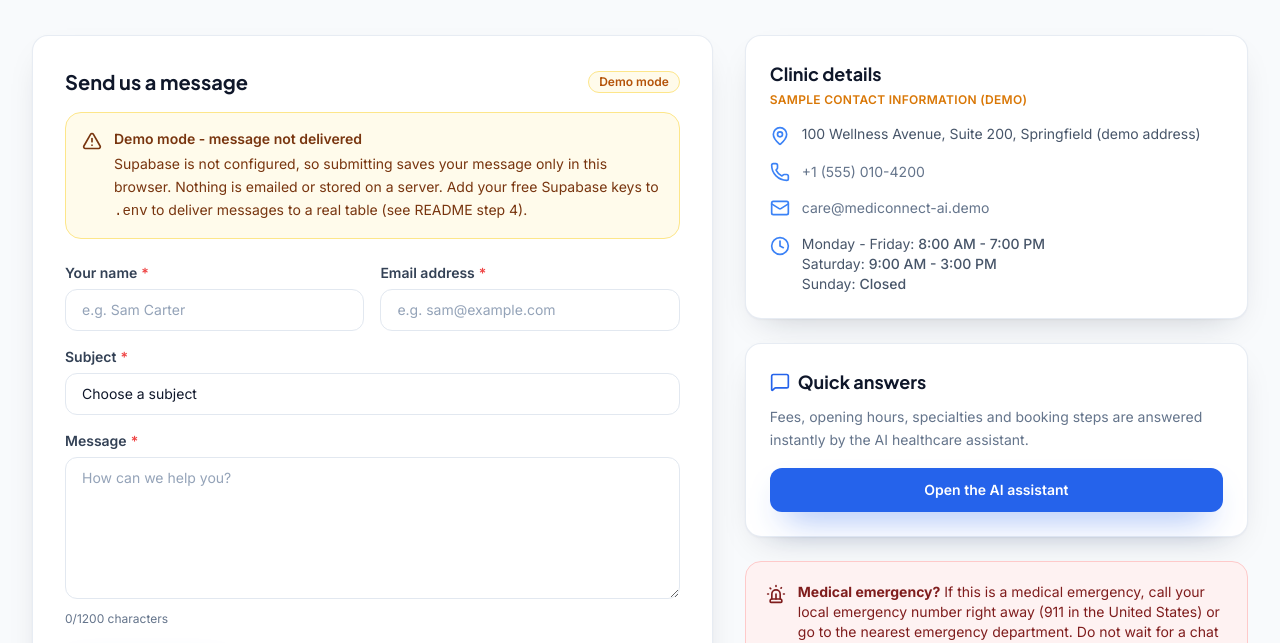
Test case: ContactPage form validation › accepts a valid message and shows a confirmation
The width and height of the screenshot is (1280, 643).
(page scrolled)
Type "Sam Carter" into the field labelled "Your name*" at coordinates (215, 310), box x1=65 y1=289 x2=364 y2=331
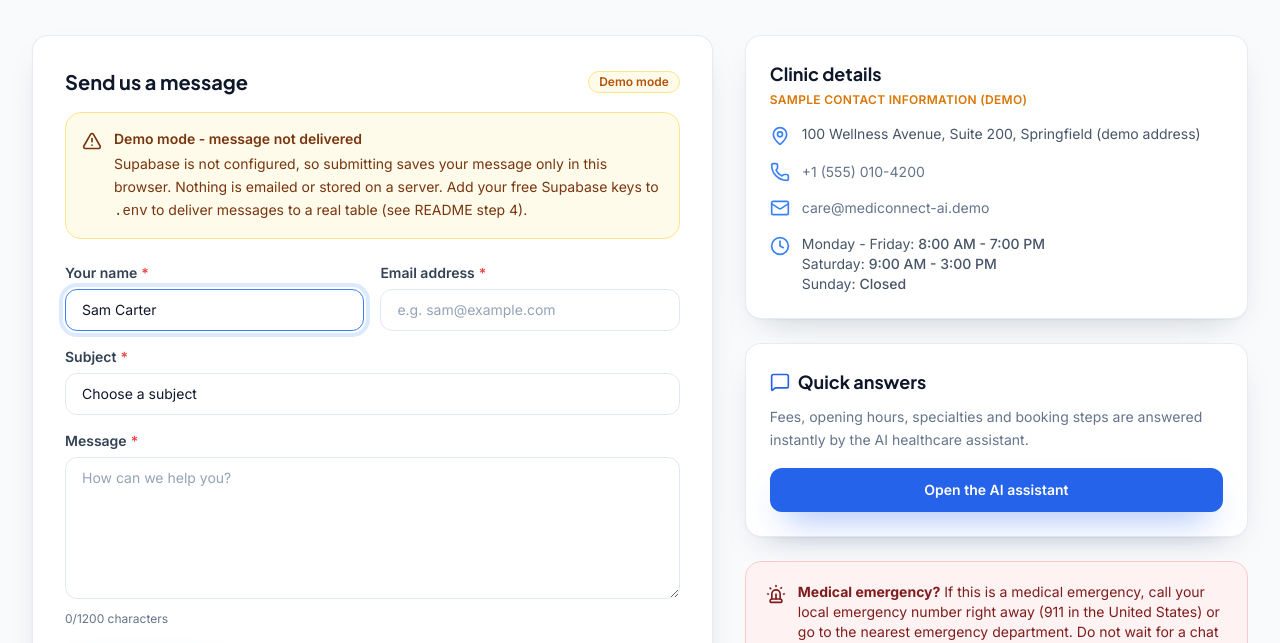
Type "sam@example.com" into the field labelled "Email address*" at coordinates (530, 310), box x1=380 y1=289 x2=680 y2=331
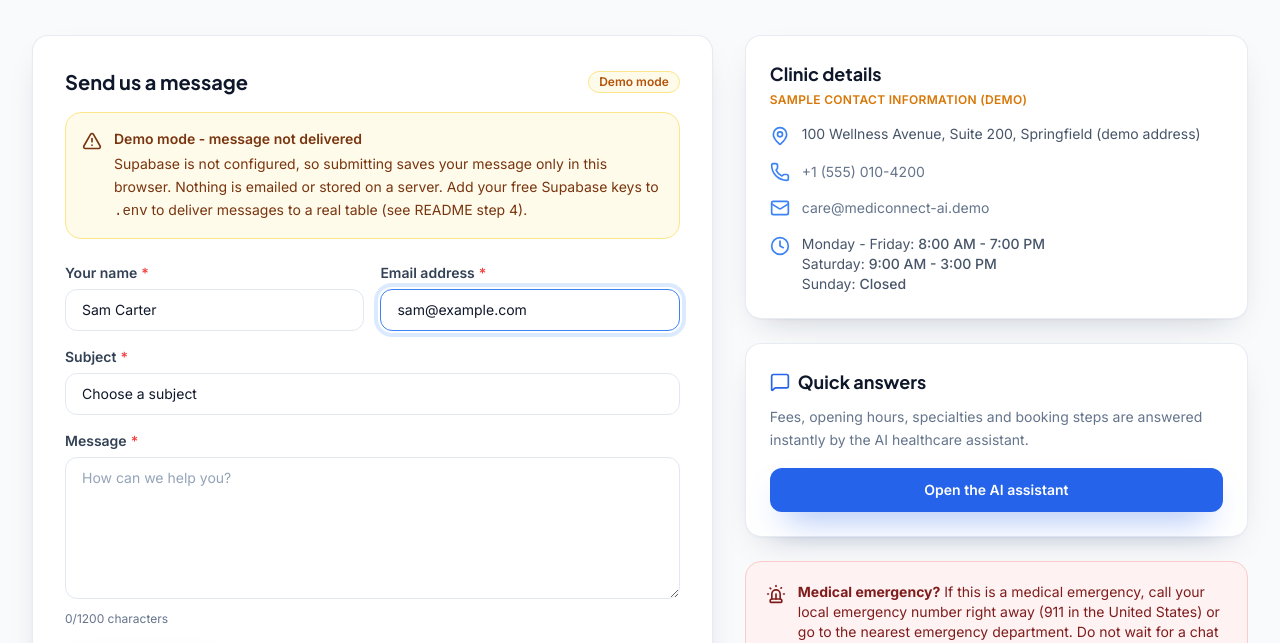
Select "General enquiry" in the dropdown labelled "Subject*" at coordinates (372, 394), box x1=65 y1=373 x2=680 y2=415
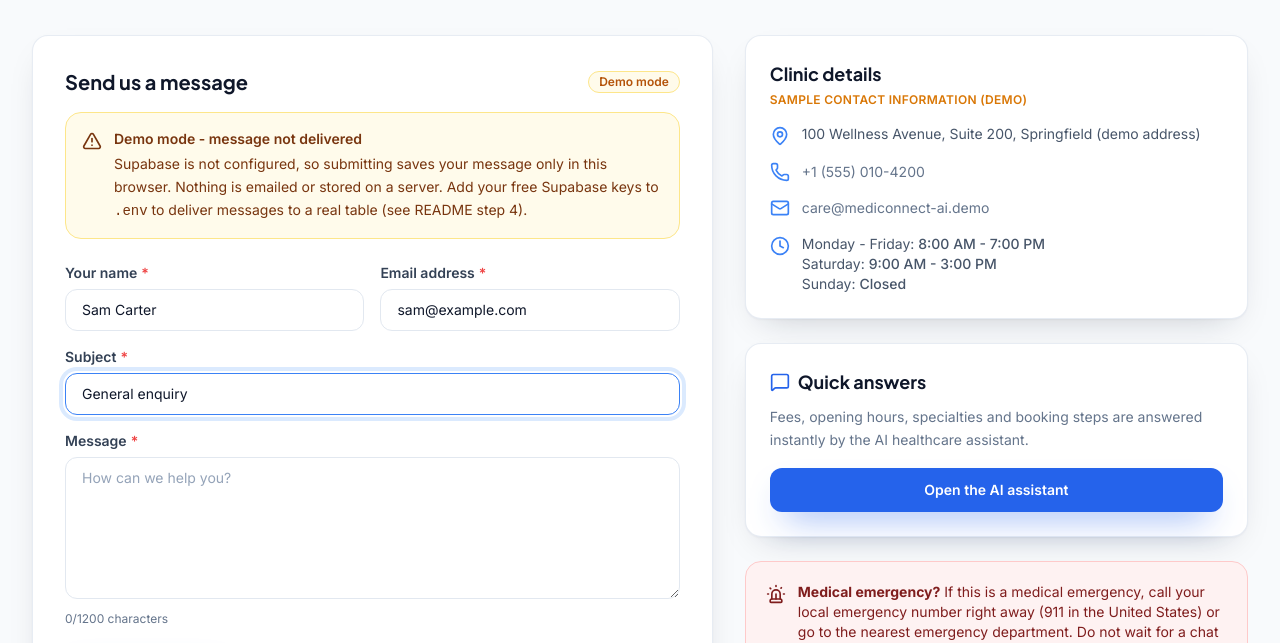
Type "Loved the booking flow on this site!" into the text box labelled "Message*" at coordinates (372, 528), box x1=65 y1=457 x2=680 y2=599
(page scrolled)
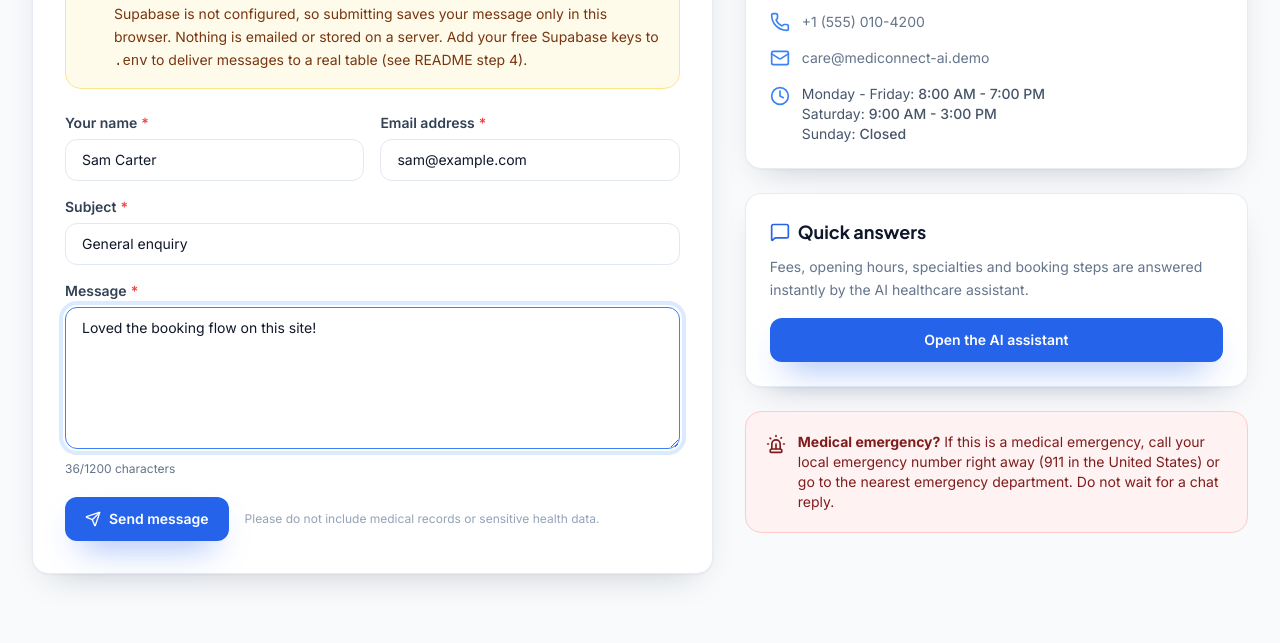
Click the button "Send message" at coordinates (147, 519), box x1=65 y1=497 x2=229 y2=541
(page scrolled)
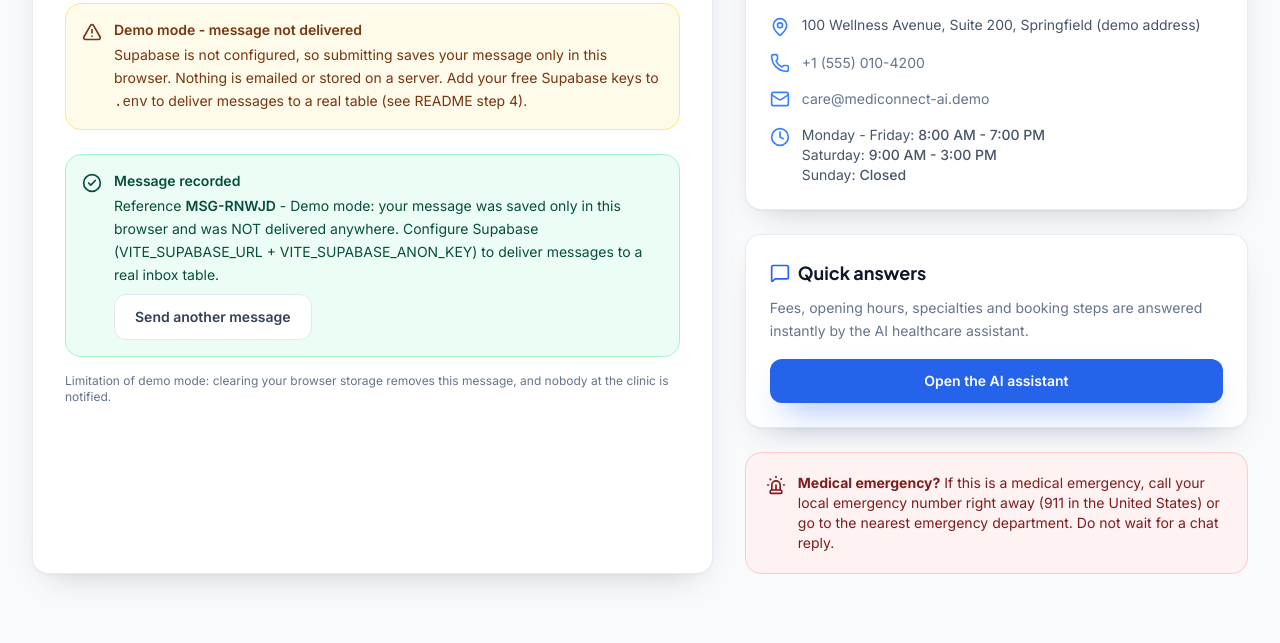
Now the text "Message recorded" shows "saved only in this browser", box x1=114 y1=197 x2=642 y2=283
Now the text "Message recorded" shows "MSG-", box x1=186 y1=197 x2=276 y2=214
Now the label labelled "Your name" is gone
